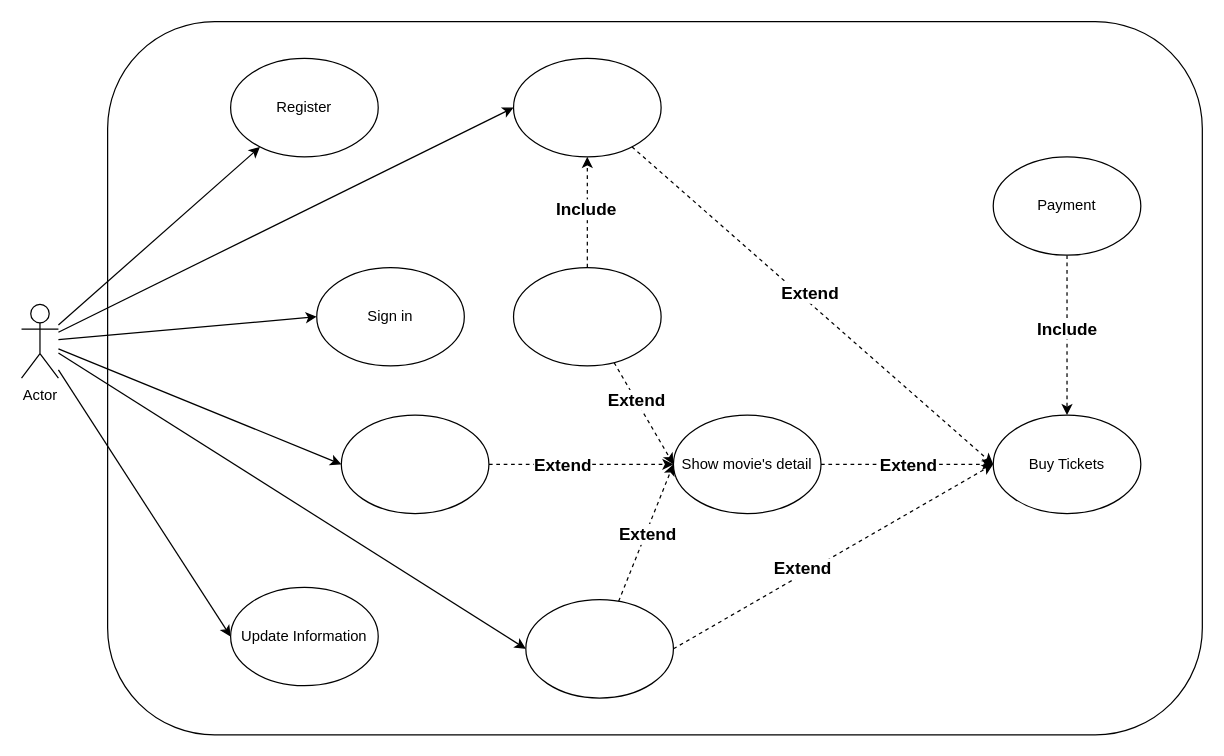
This 1224x756 diagram has some shape labels left out. The centre of each missing label's shape, as x and y in pixels:
"Add favorite" goes at pixel 586 316.
"Manage history" goes at pixel 586 107.
"Show Favorite List" goes at pixel 599 648.
"Show Movie List" goes at pixel 414 464.
